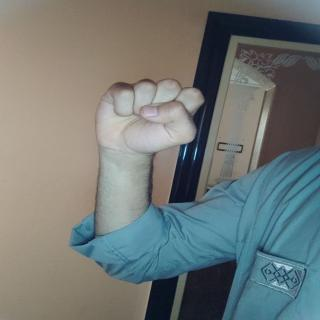SAD: (86, 74, 208, 184)
